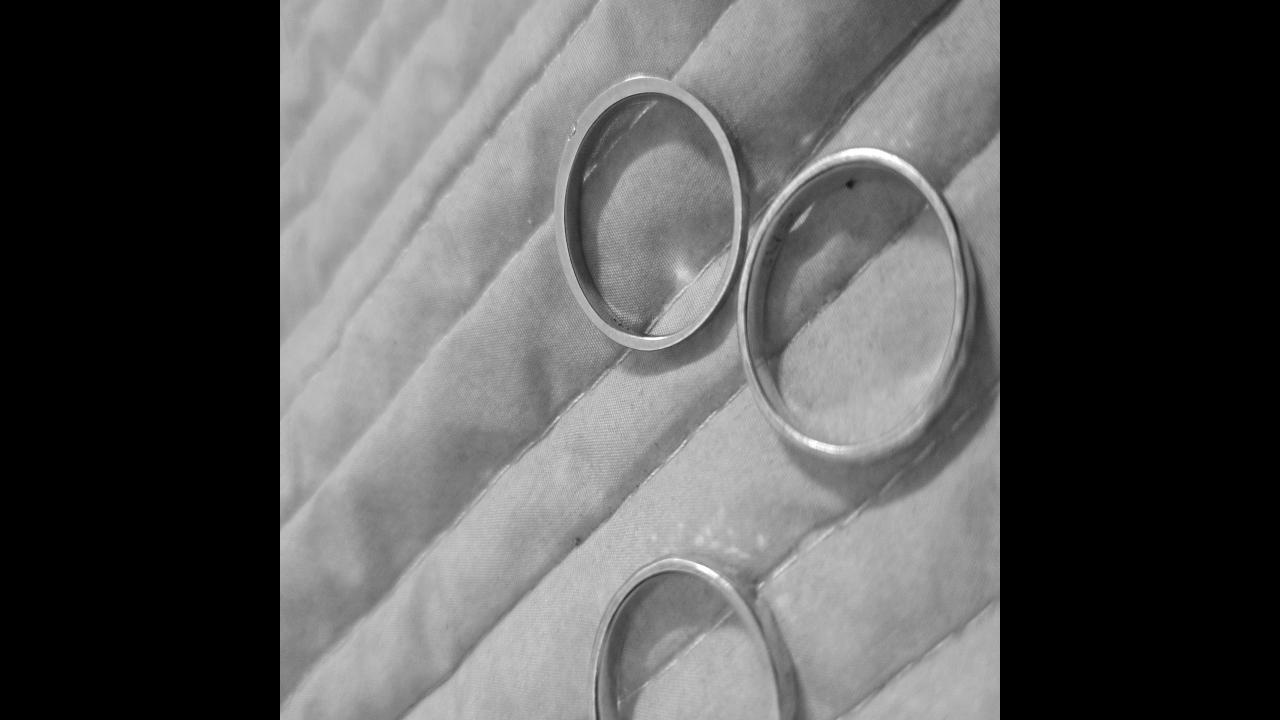ring: (739, 150, 970, 468), (553, 69, 744, 351), (587, 552, 791, 720)
